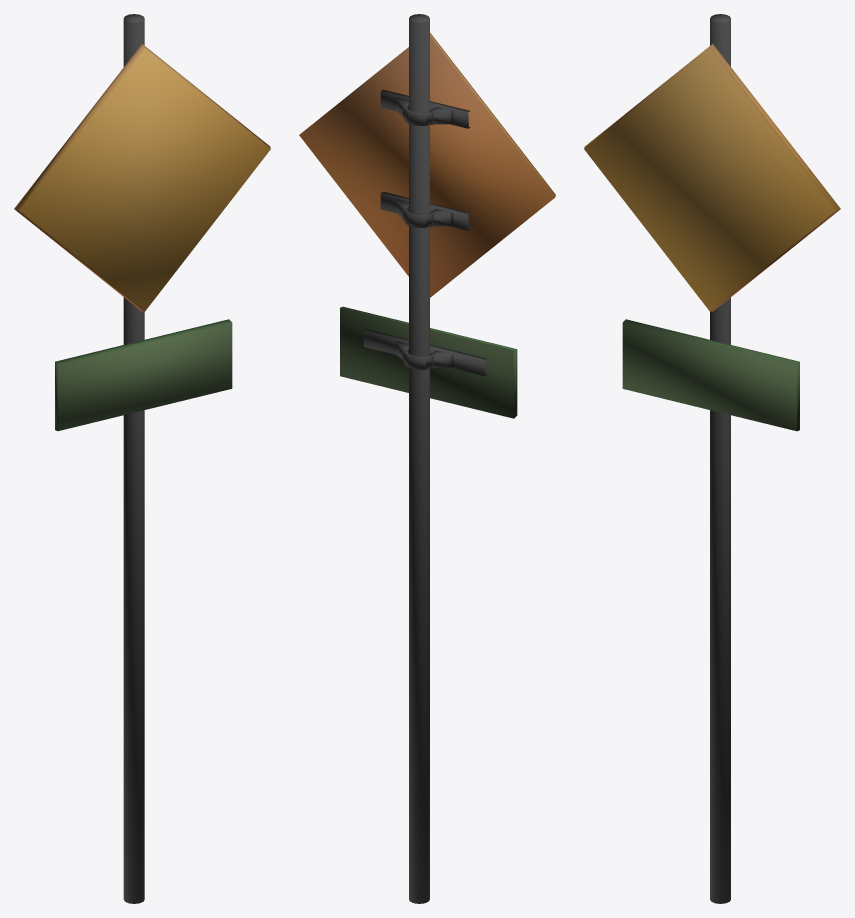
3 views of the same model, side by side, from view 1: azimuth 30°, elevation 25°; view 2: azimuth 150°, elevation 25°; view 3: azimuth 330°, elevation 25° (orthographic).
Parts seen in each view (by area): view 1: alt5.004; view 2: alt5.004; view 3: alt5.004.
Boxes of the visible parts, x1,y1,x2,y2 form: alt5.004: (14,14,270,903); alt5.004: (299,14,555,903); alt5.004: (584,14,840,903).
Bounding box in the file's own units: 0.1522 × 0.5 × 0.0177.
